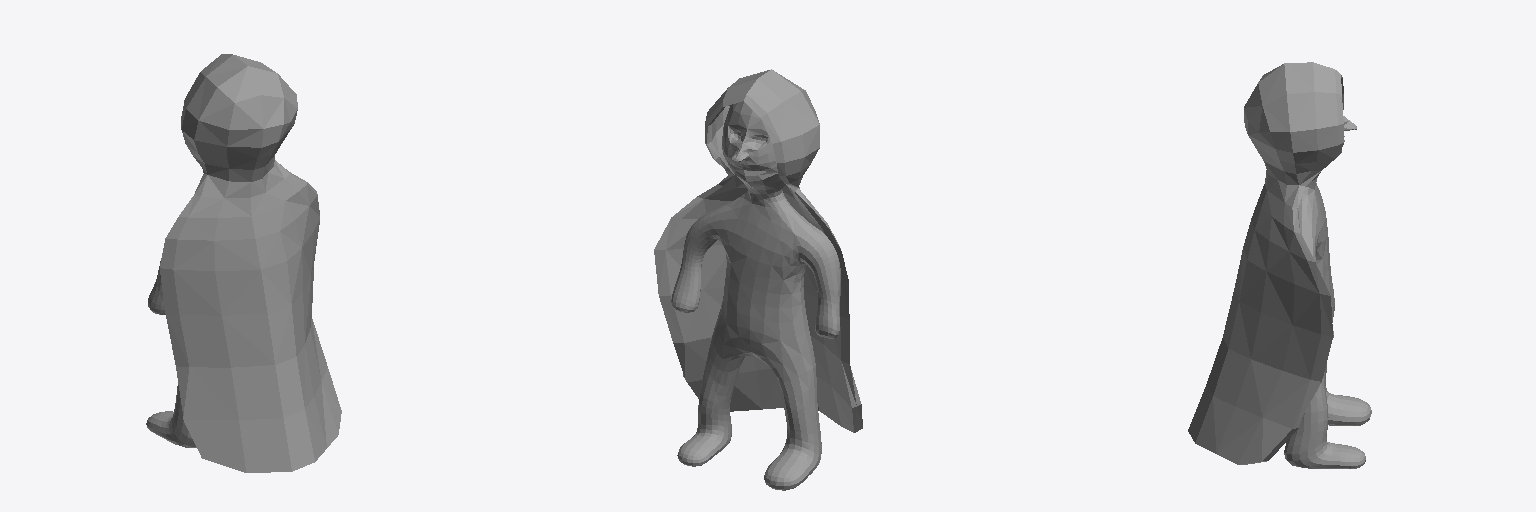
File: player.obj
The picture shows the model from 3 angles: view 1: azimuth 30°, elevation 25°; view 2: azimuth 150°, elevation 25°; view 3: azimuth 270°, elevation 25°; orthographic projection.
Visible parts, largest first — view 1: Body_Cube; view 2: Body_Cube; view 3: Body_Cube.
Boxes of the visible parts, <box> form: Body_Cube: <box>146,54,341,472</box>; Body_Cube: <box>654,69,862,490</box>; Body_Cube: <box>1188,62,1371,468</box>.
Size of the model in its own units: 1.51 by 3.1 by 1.36.